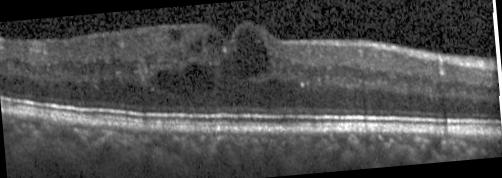intraretinal_cyst: (150, 64, 214, 104), (234, 27, 270, 77), (206, 33, 223, 49), (190, 39, 202, 52), (168, 28, 180, 40)
